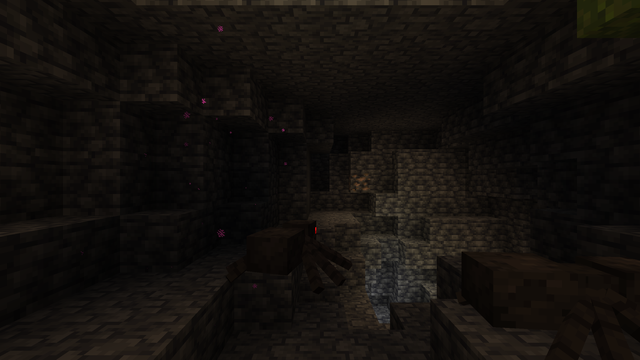araignees: (464, 237, 626, 346), (238, 215, 332, 288)
